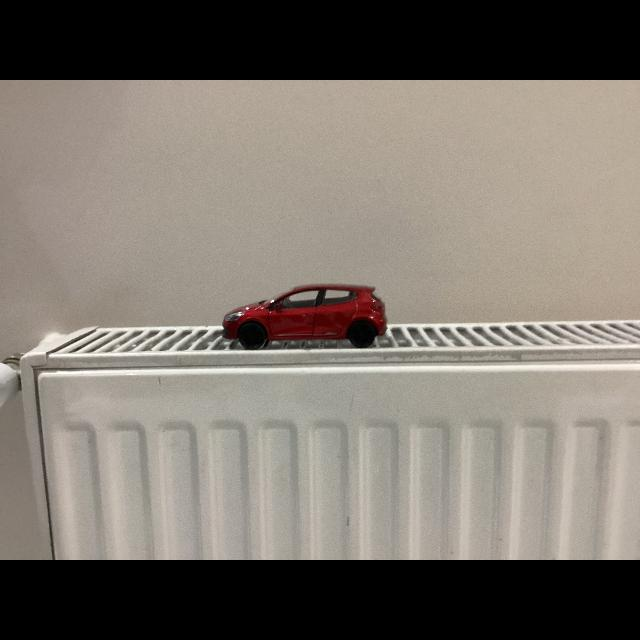Dogru_Jant: (242, 328, 264, 350), (352, 323, 374, 345)
